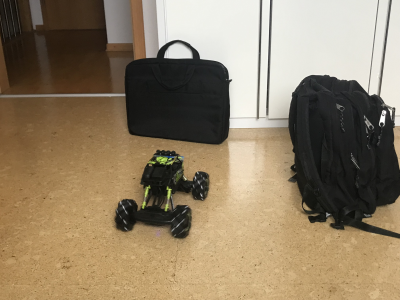remote control car: (114, 147, 211, 239)
